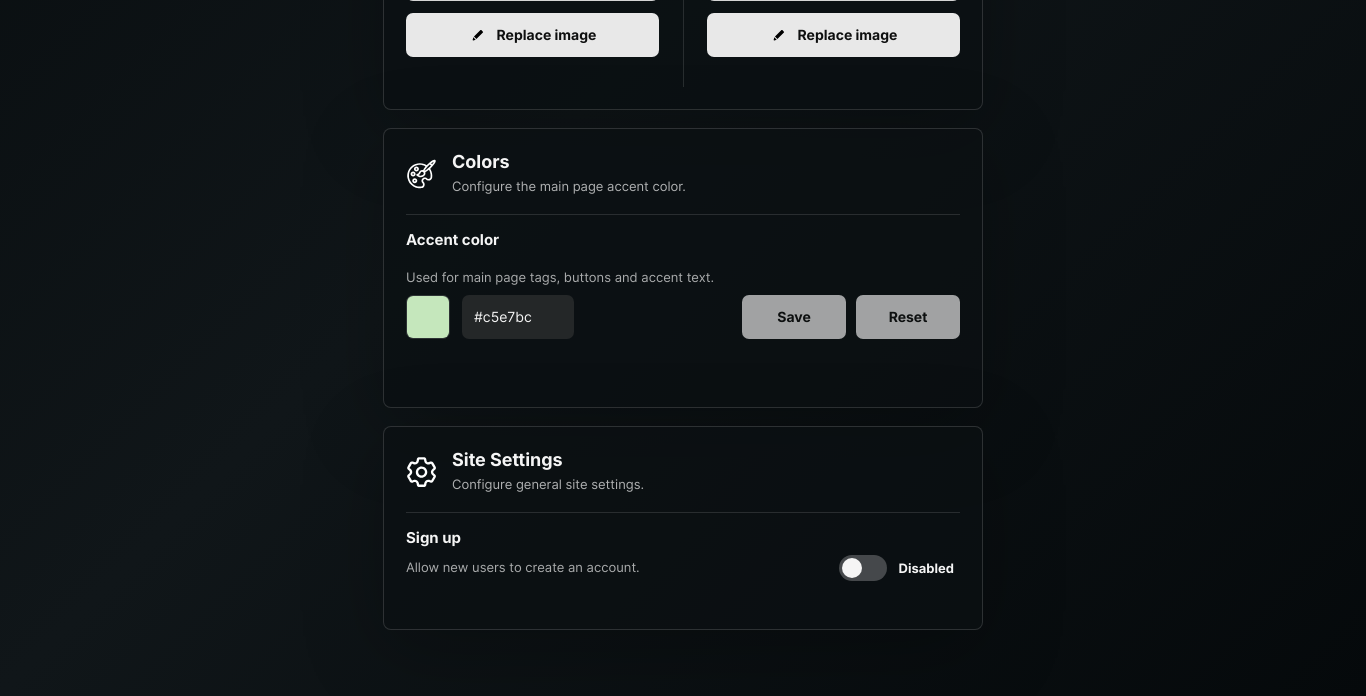
Scenario: Profile settings › updates accent color
(page scrolled)
Replace the text in the field named "Accent color hex value" with "#aabbcc" at {"x": 518, "y": 317}, box x1=462 y1=295 x2=574 y2=339
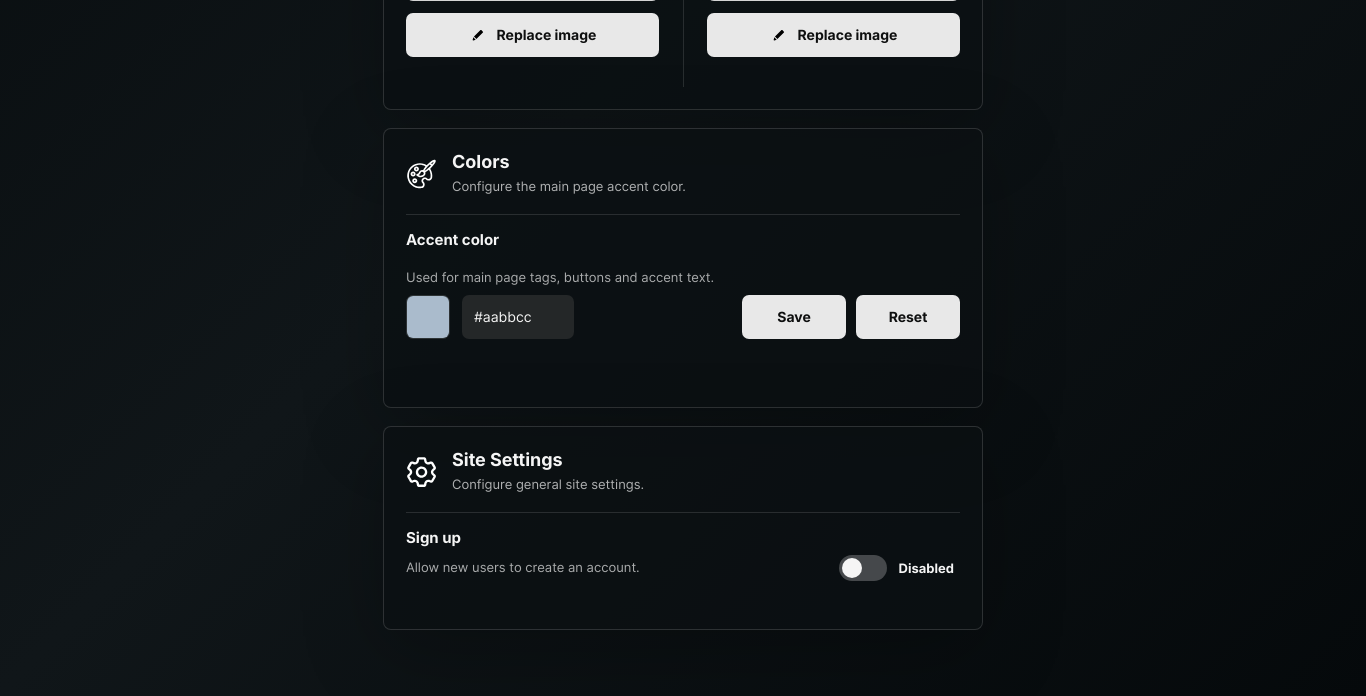
Click the button "Save" at {"x": 794, "y": 317}, box x1=742 y1=295 x2=846 y2=339
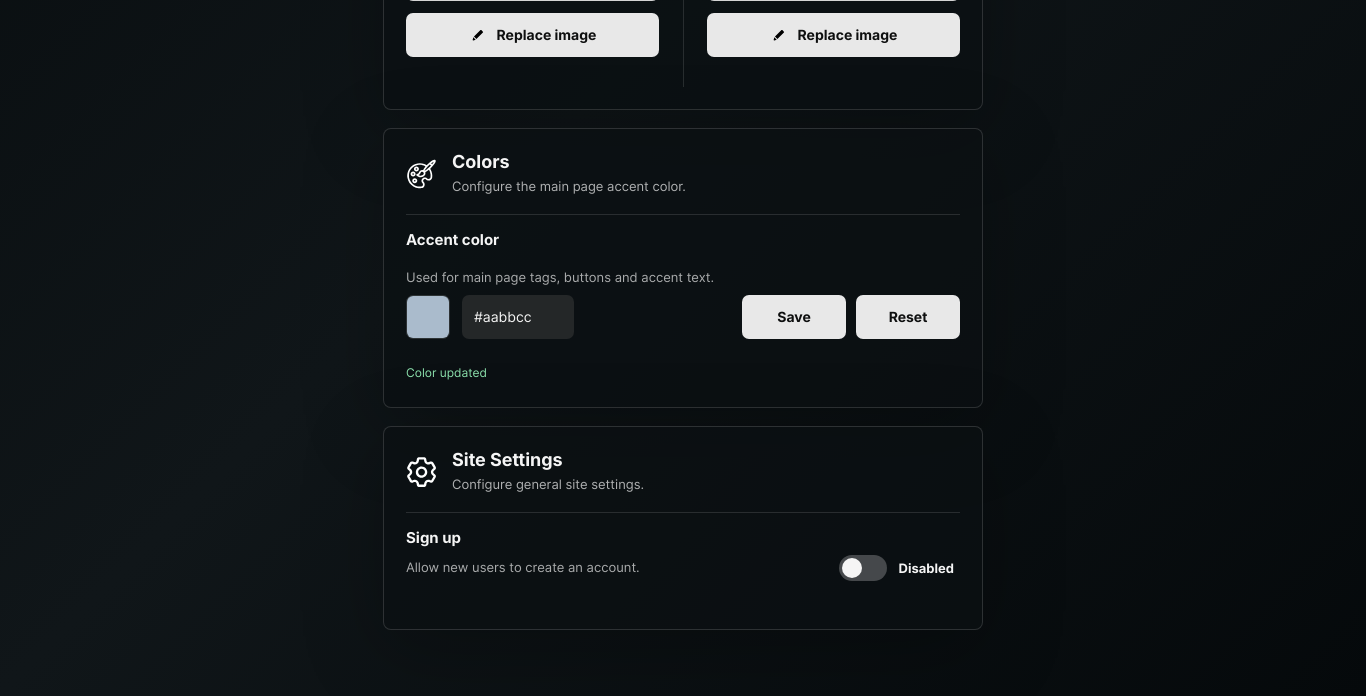
Expected: the text "Color updated" is shown, x1=406 y1=365 x2=487 y2=380
